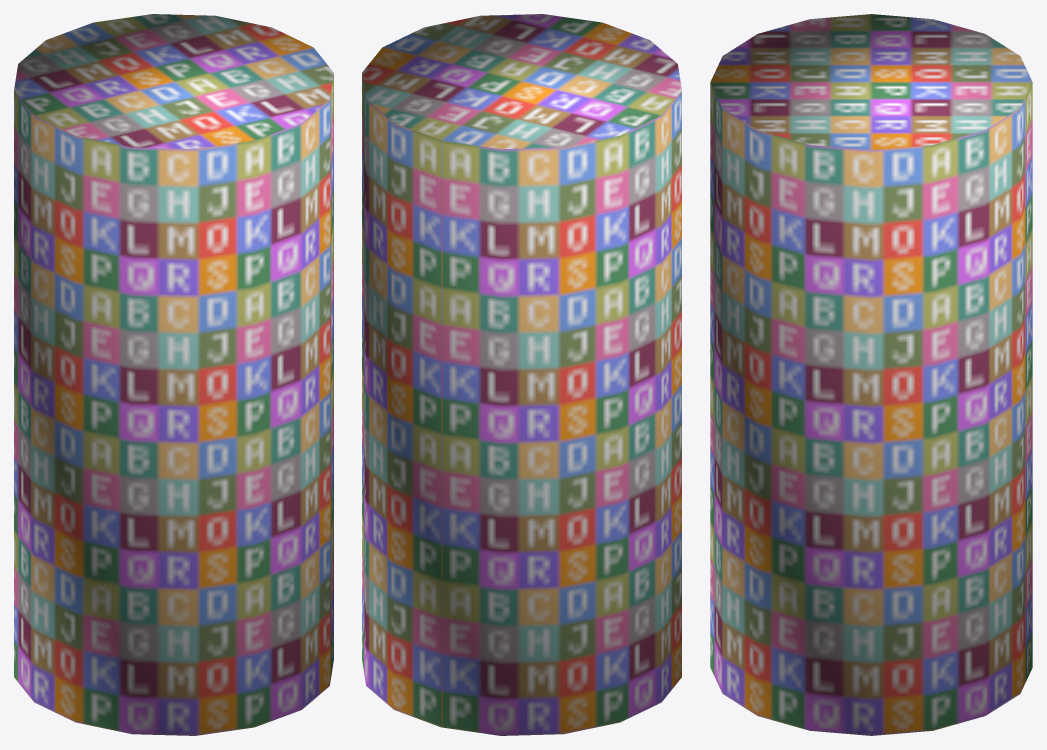
File: cilindro1.obj
The picture shows the model from 3 angles, left to right: view 1: azimuth 30°, elevation 25°; view 2: azimuth 150°, elevation 25°; view 3: azimuth 270°, elevation 25°; orthographic projection.
Visible parts, largest first — view 1: cylinder3; view 2: cylinder3; view 3: cylinder3.
Boxes of the visible parts, bbox=[...] form: cylinder3: bbox=[14, 14, 333, 735]; cylinder3: bbox=[362, 14, 681, 735]; cylinder3: bbox=[710, 14, 1032, 735].
Bounding box in the file's own units: 2 × 4.01 × 2.
1 material, 1 textured.
